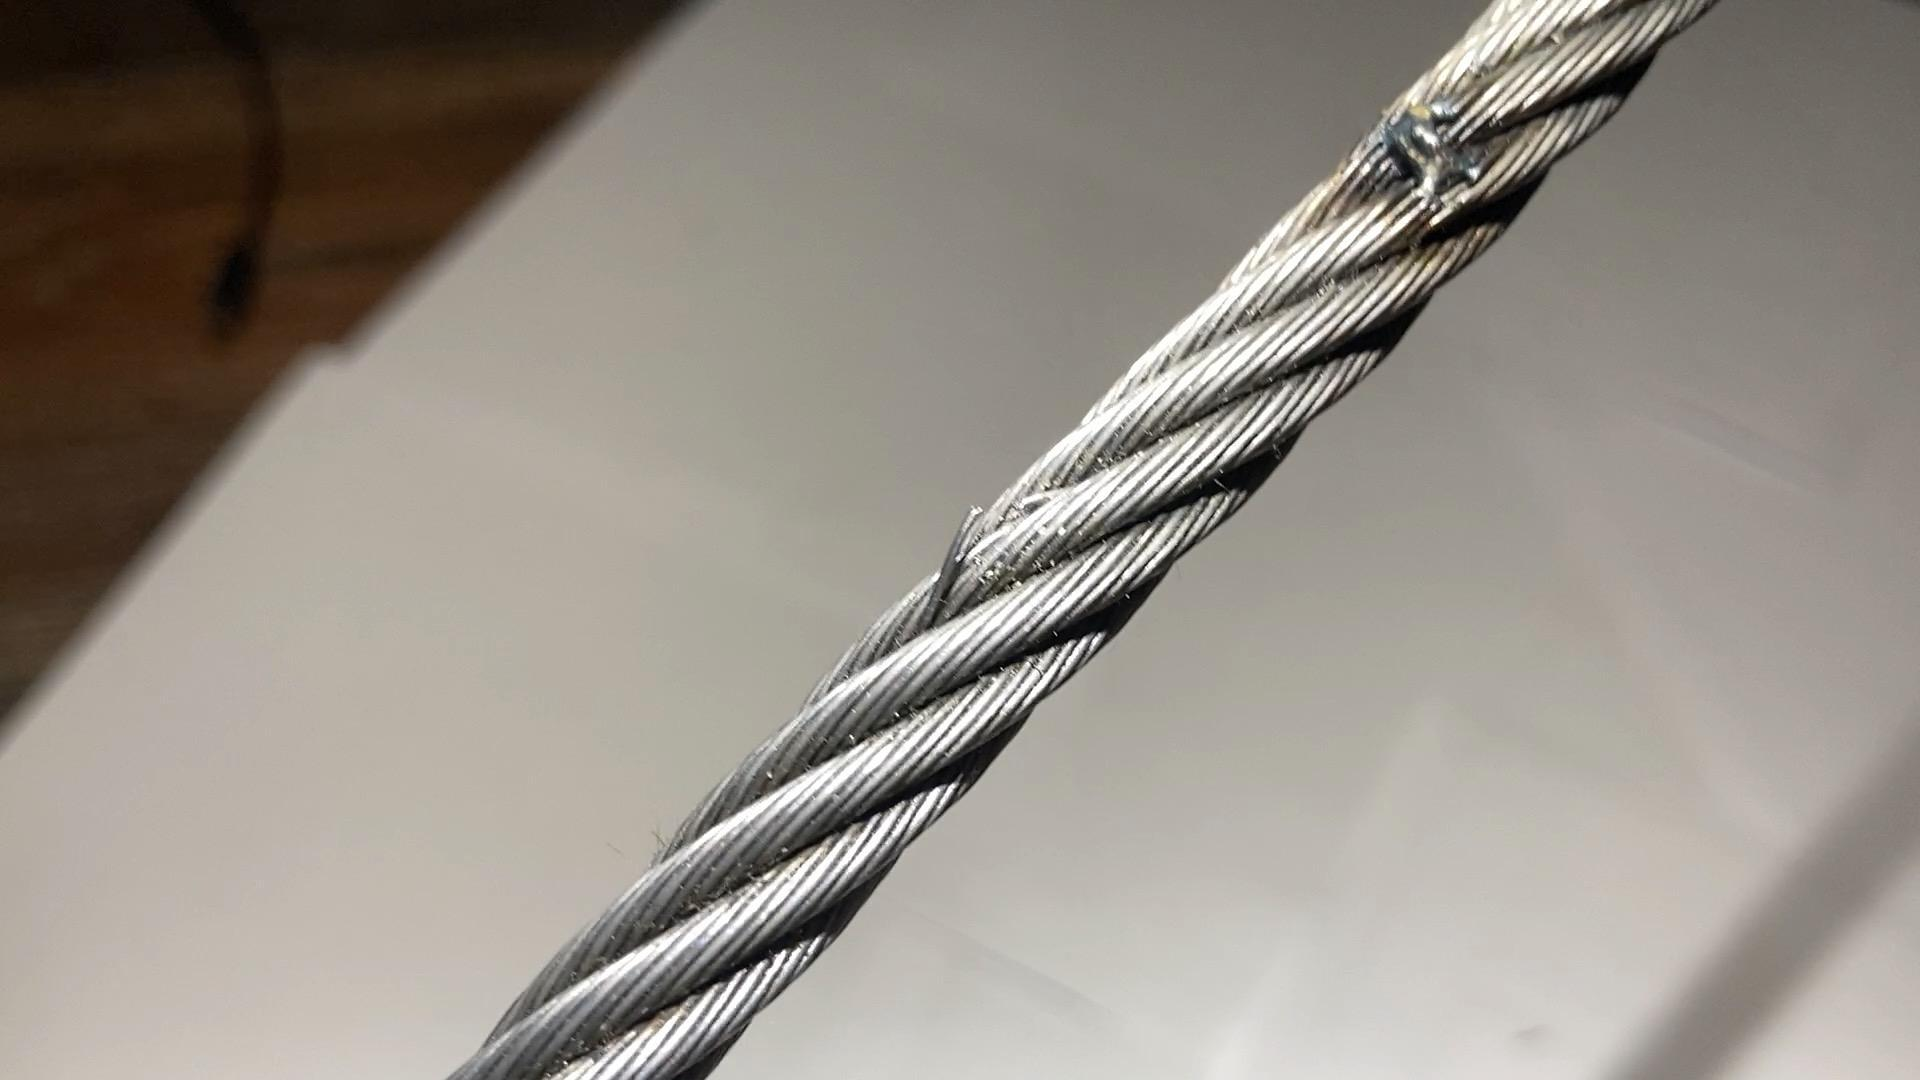break: (909, 487, 1004, 607)
thunderbolt: (1352, 80, 1490, 194)
